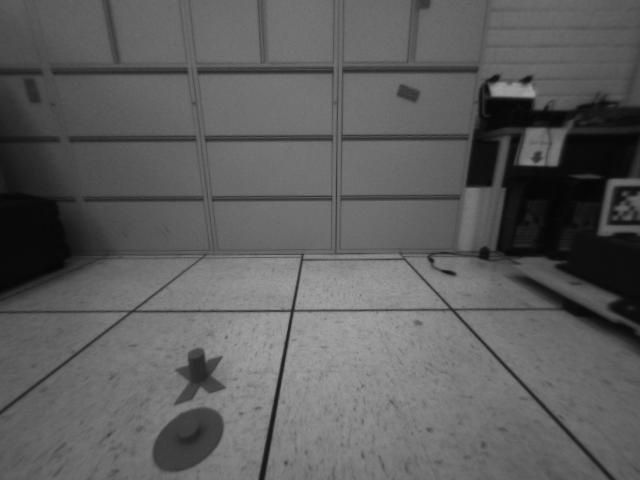X: (172, 347, 226, 405)
